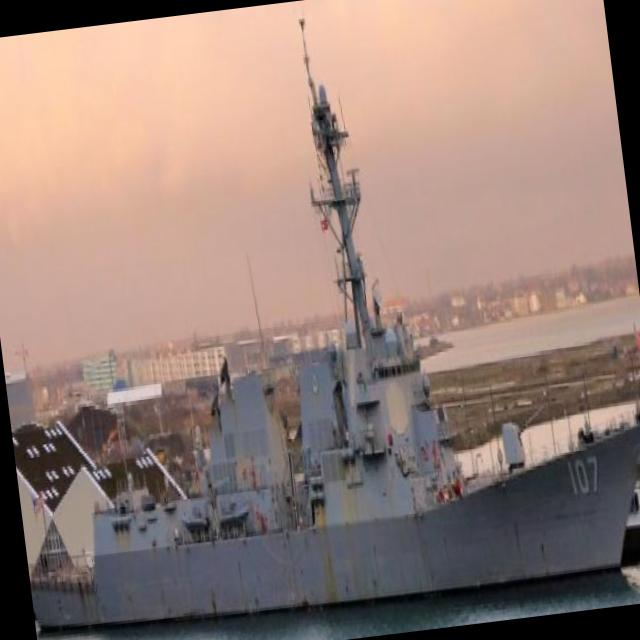Military: (29, 67, 640, 624)
